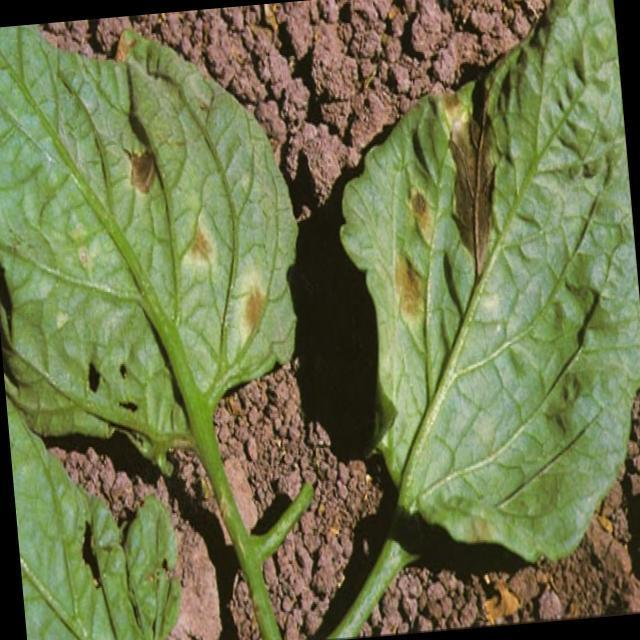Mosaic Virus: (371, 80, 540, 368), (119, 125, 278, 363)
